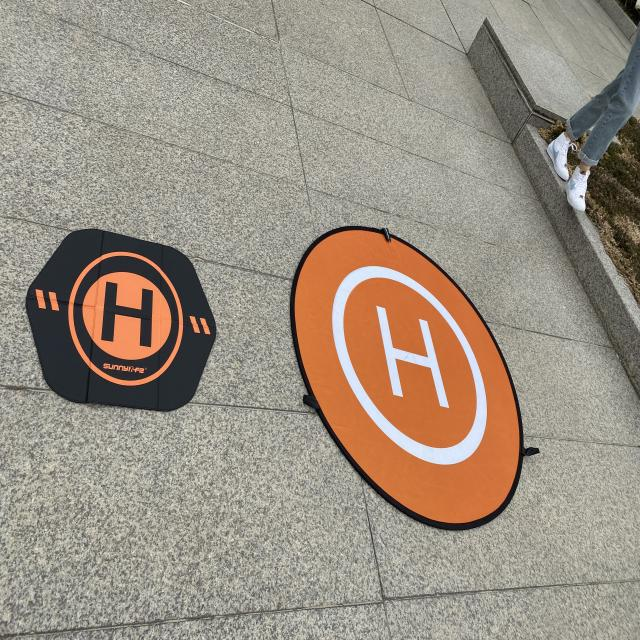helipad: (329, 262, 491, 467), (68, 251, 182, 385)
